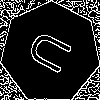U: (25, 27, 82, 81)
